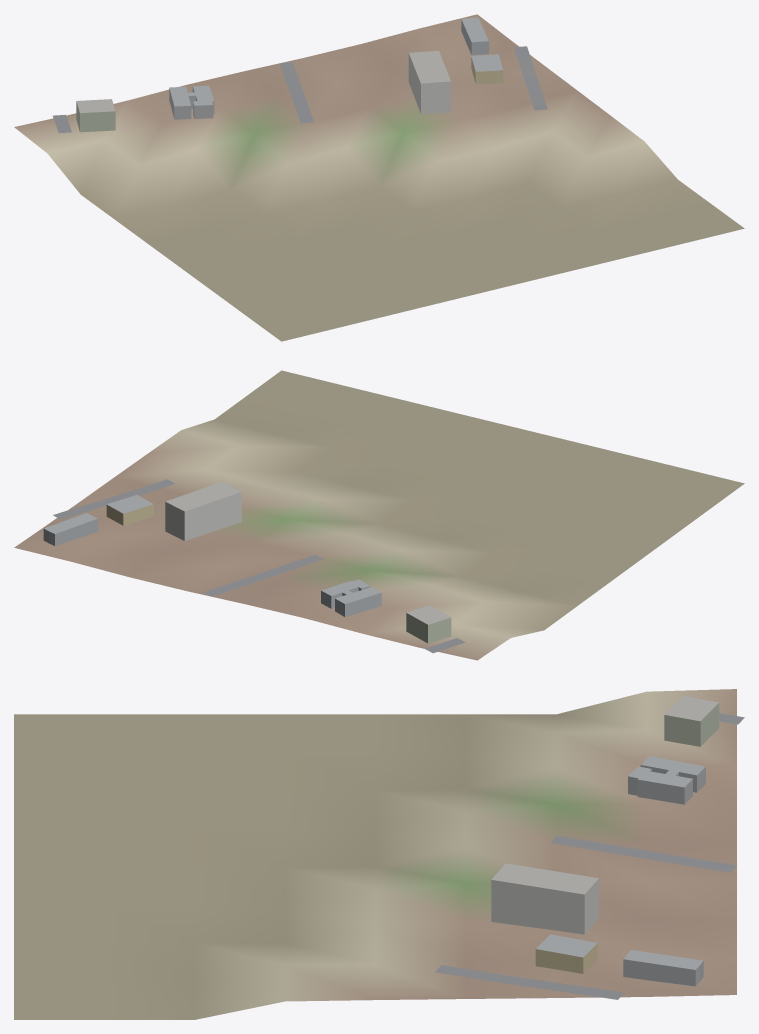
3 views of the same model, one above another, from view 1: azimuth 30°, elevation 25°; view 2: azimuth 150°, elevation 25°; view 3: azimuth 270°, elevation 25° (orthographic). The views are drawn at different scales.
Parts seen in each view (by area): view 1: Lo; view 2: Lo; view 3: Lo.
Part boxes in pixels (x1,y1,x2,y2): Lo: (14, 14, 744, 341); Lo: (14, 370, 744, 660); Lo: (14, 689, 744, 1019).
Size of the model in its own units: 259 by 24.55 by 259.
